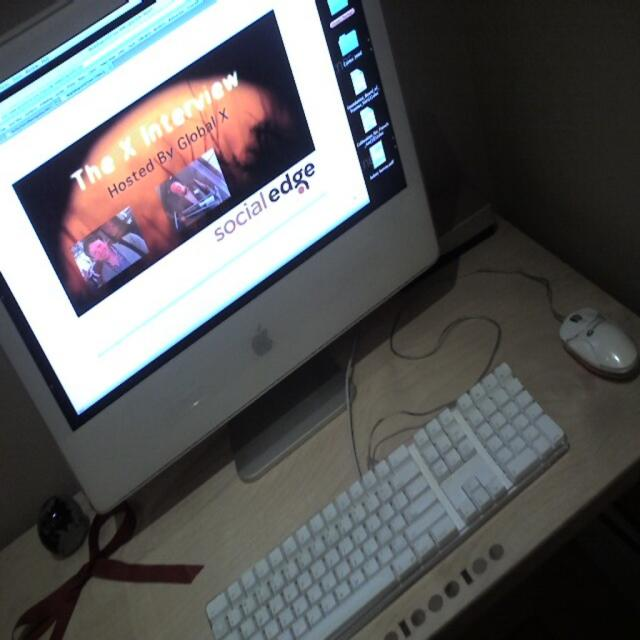Computer-mouse: (557, 304, 639, 384)
